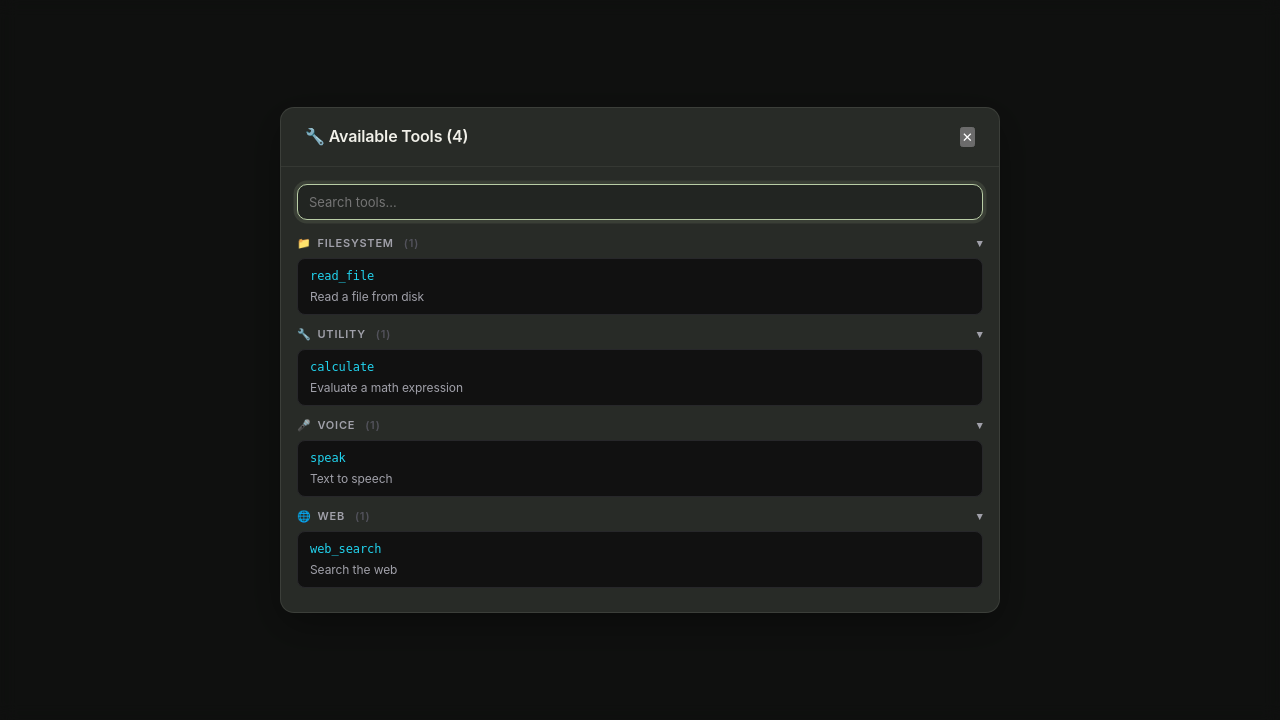
ToolsPanel — search › filters tools by name
This screenshot has width=1280, height=720.
Type "read" into the field labelled "Search tools…" at (640, 202), box [297,184,983,220]
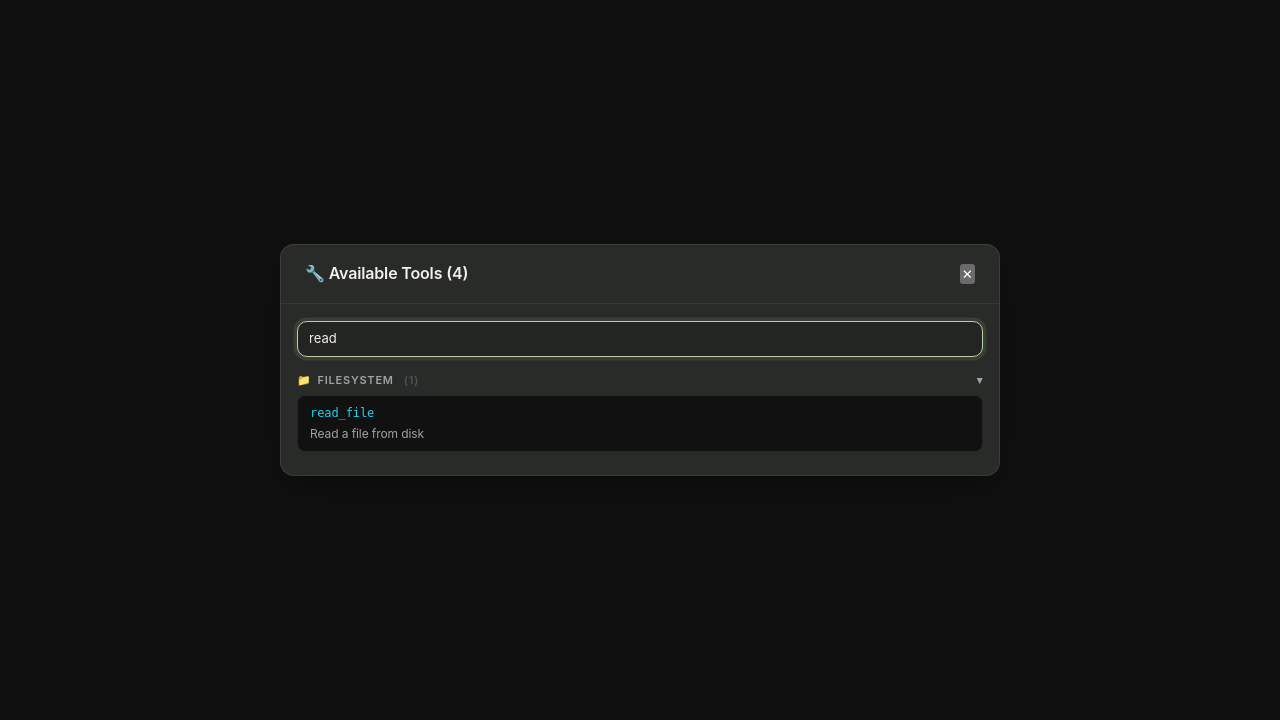
Expected: the text "read_file" is shown, [310,403,374,423]
Expected: the text "web_search" is gone
